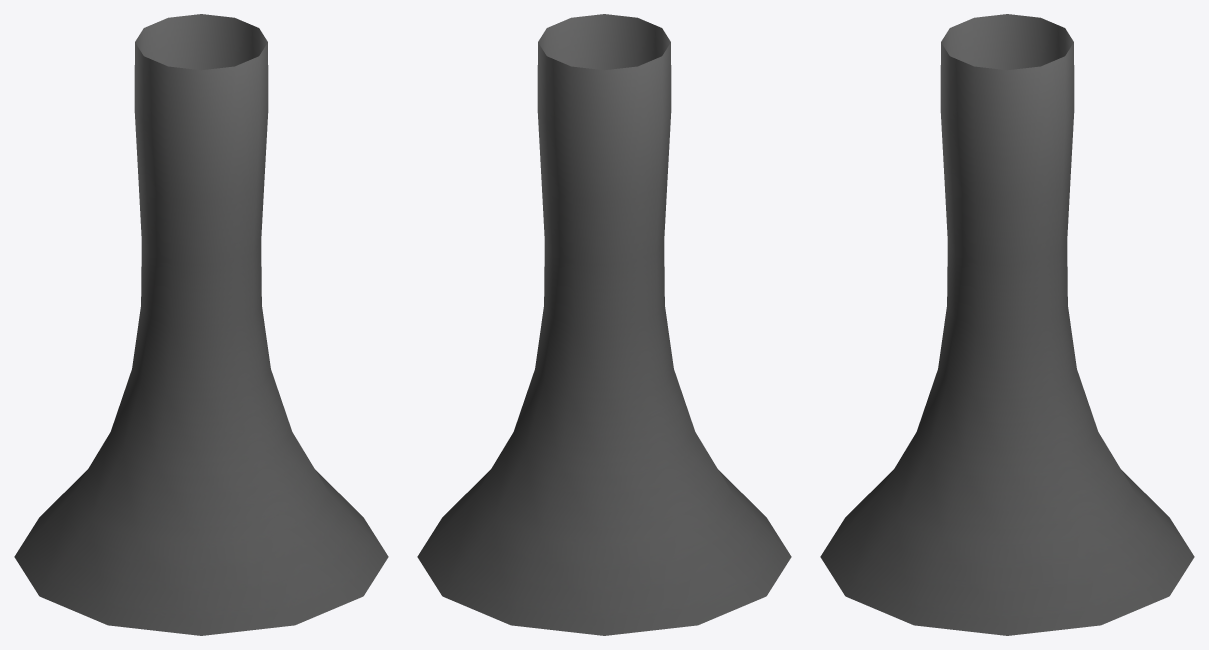
Rendered from tige.fbx.
The picture shows the model from 3 angles, left to right: view 1: azimuth 30°, elevation 25°; view 2: azimuth 150°, elevation 25°; view 3: azimuth 270°, elevation 25°; orthographic projection.
Visible parts, largest first — view 1: NurbsPath.068; view 2: NurbsPath.068; view 3: NurbsPath.068.
Boxes of the visible parts, bbox=[...] form: NurbsPath.068: bbox=[14, 14, 388, 635]; NurbsPath.068: bbox=[417, 14, 791, 635]; NurbsPath.068: bbox=[820, 14, 1194, 635].
Size of the model in its own units: 36.92 by 56.01 by 36.92.
